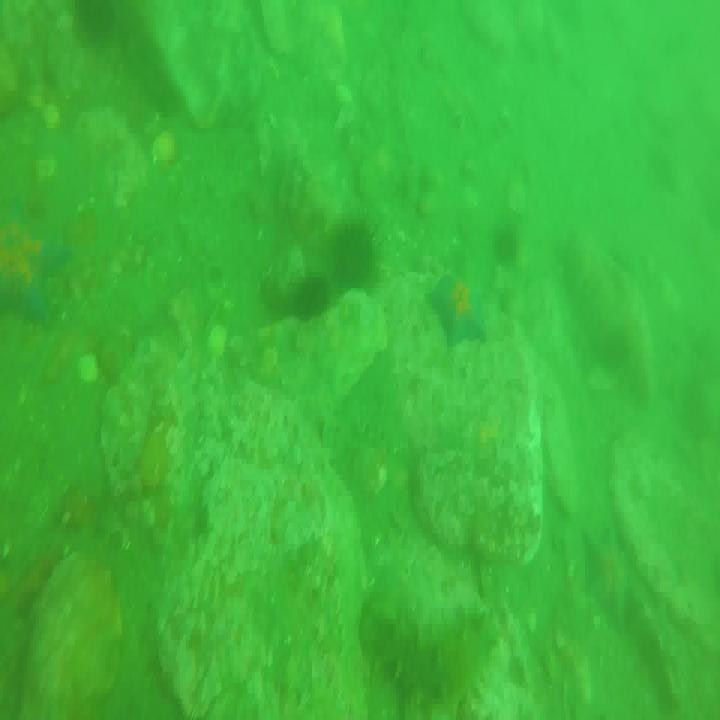echinus: (332, 214, 375, 292), (292, 270, 336, 324), (81, 0, 116, 58), (495, 222, 523, 267)
holothurian: (364, 594, 494, 703)
starfish: (0, 217, 75, 325), (581, 522, 639, 626), (428, 266, 489, 351)
